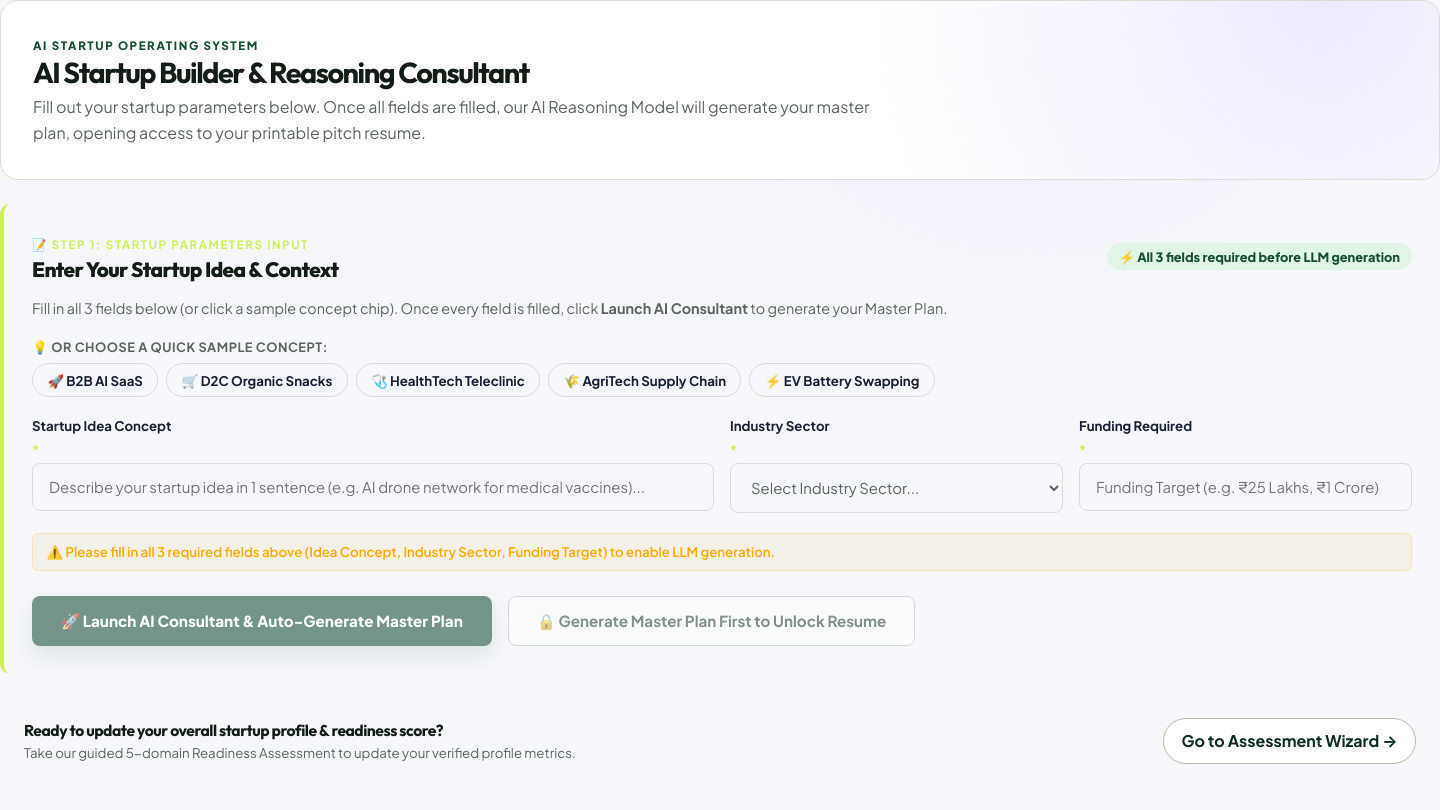
Test: StartupBuilderPage › enables launch button when sample chip is clicked while keeping resume locked until master plan is generated
Click the button "🚀 B2B AI SaaS": (95, 380) [32, 363, 158, 397]
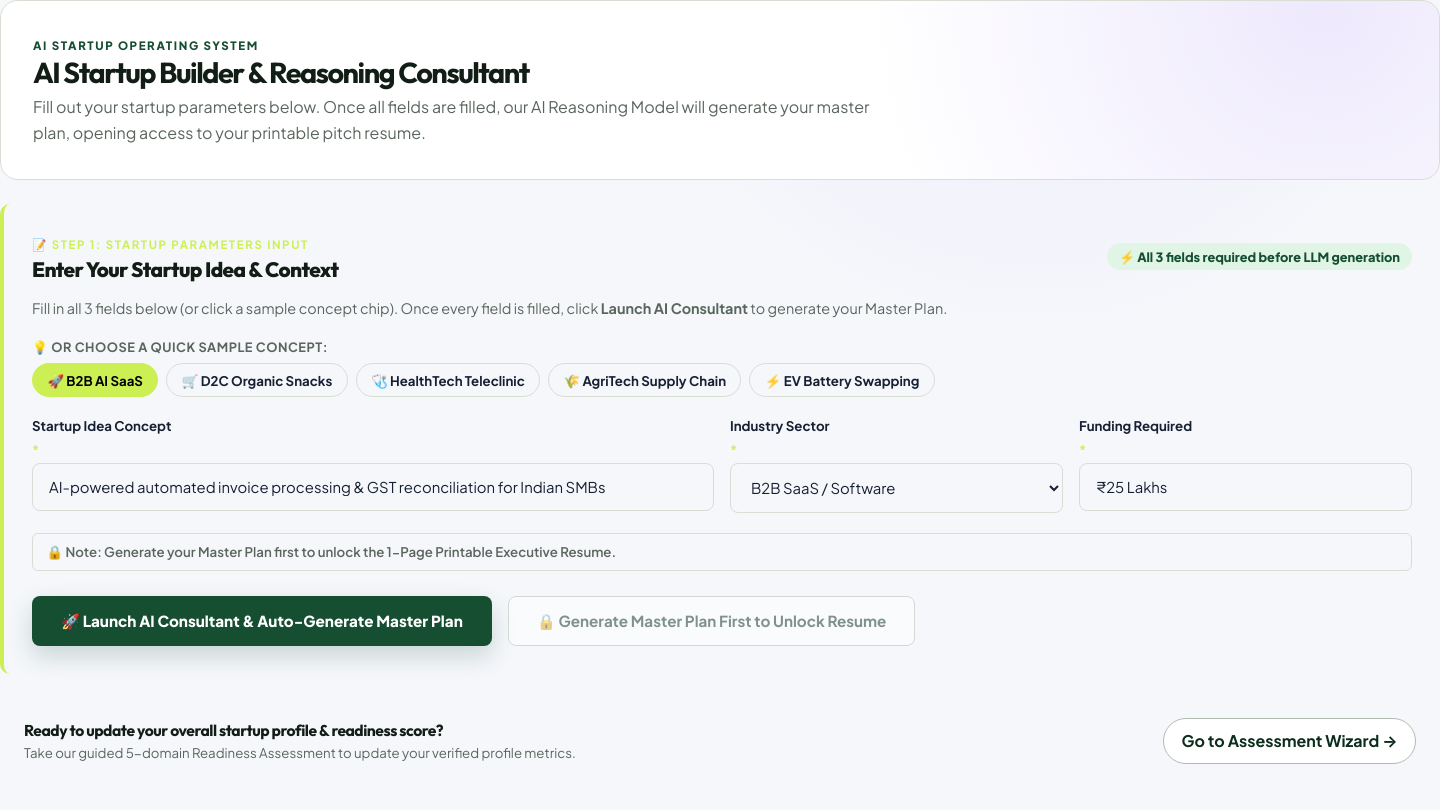
Expected: the dropdown shows "B2B SaaS / Software", [730, 464, 1063, 513]
Expected: the field with placeholder "Funding Target (e.g. ₹25 Lakhs, ₹1 Crore)" holds "₹25 Lakhs", [1079, 464, 1412, 511]
Expected: the button "🚀 Launch AI Consultant & Auto-Generate Master Plan" is enabled, [32, 596, 492, 646]
